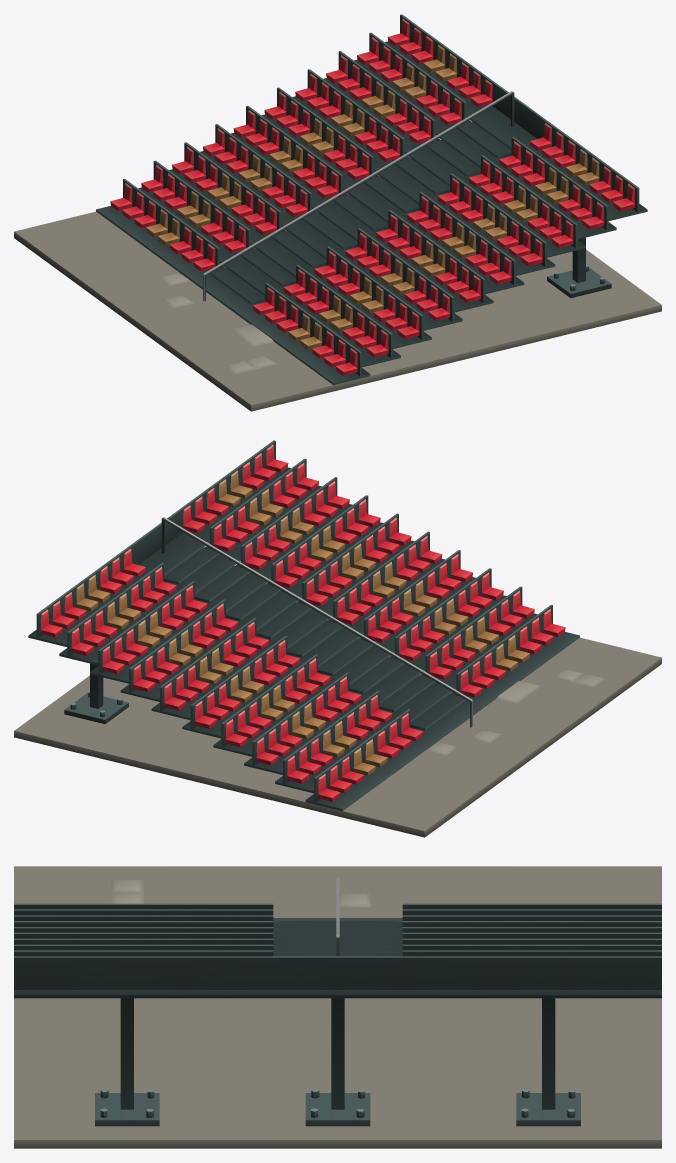
The model's file is Stand_1B.fbx.
3 views of the same model, one above another, from view 1: azimuth 30°, elevation 25°; view 2: azimuth 150°, elevation 25°; view 3: azimuth 270°, elevation 25° (orthographic). The views are drawn at different scales.
Parts seen in each view (by area): view 1: Stand_1B; view 2: Stand_1B; view 3: Stand_1B.
Boxes of the visible parts, <box> form: Stand_1B: <box>14,14,661,411</box>; Stand_1B: <box>14,440,661,837</box>; Stand_1B: <box>14,866,661,1148</box>.
Size of the model in its own units: 20 by 6.55 by 20.
